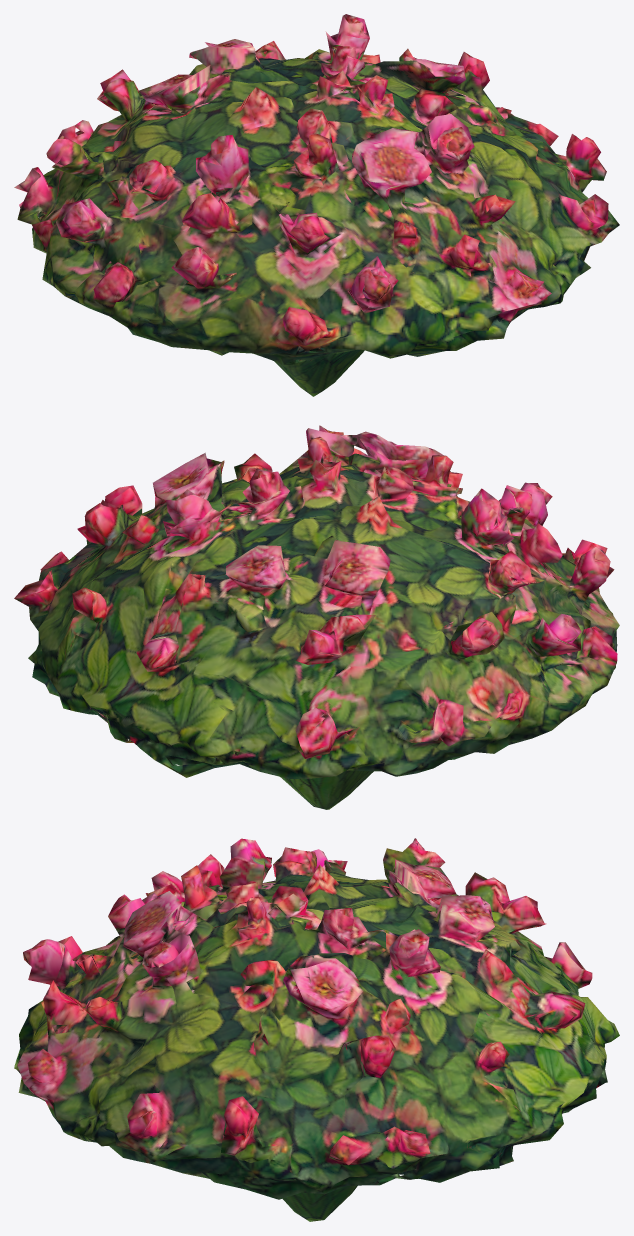
3 renders of one model, top to bottom at view 1: azimuth 30°, elevation 25°; view 2: azimuth 150°, elevation 25°; view 3: azimuth 270°, elevation 25°, orthographic. The views are drawn at different scales.
Parts seen in each view (by area): view 1: texture_mapping; view 2: texture_mapping; view 3: texture_mapping.
Boxes of the visible parts, x1,y1,x2,y2 form: texture_mapping: (14,14,619,396); texture_mapping: (14,425,619,809); texture_mapping: (14,838,619,1221).
Size of the model in its own units: 0.9476 by 0.585 by 0.9374.
1 material, 1 textured.
